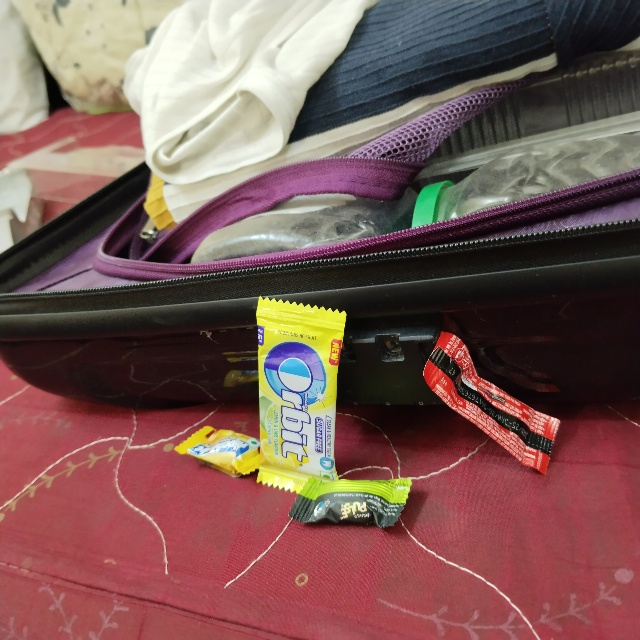Alpenlibe Creamfills: (275, 444, 328, 533)
Nescafe Coffee: (443, 329, 612, 385)
Orbit: (256, 294, 347, 505)
Pulse: (413, 469, 475, 587)
